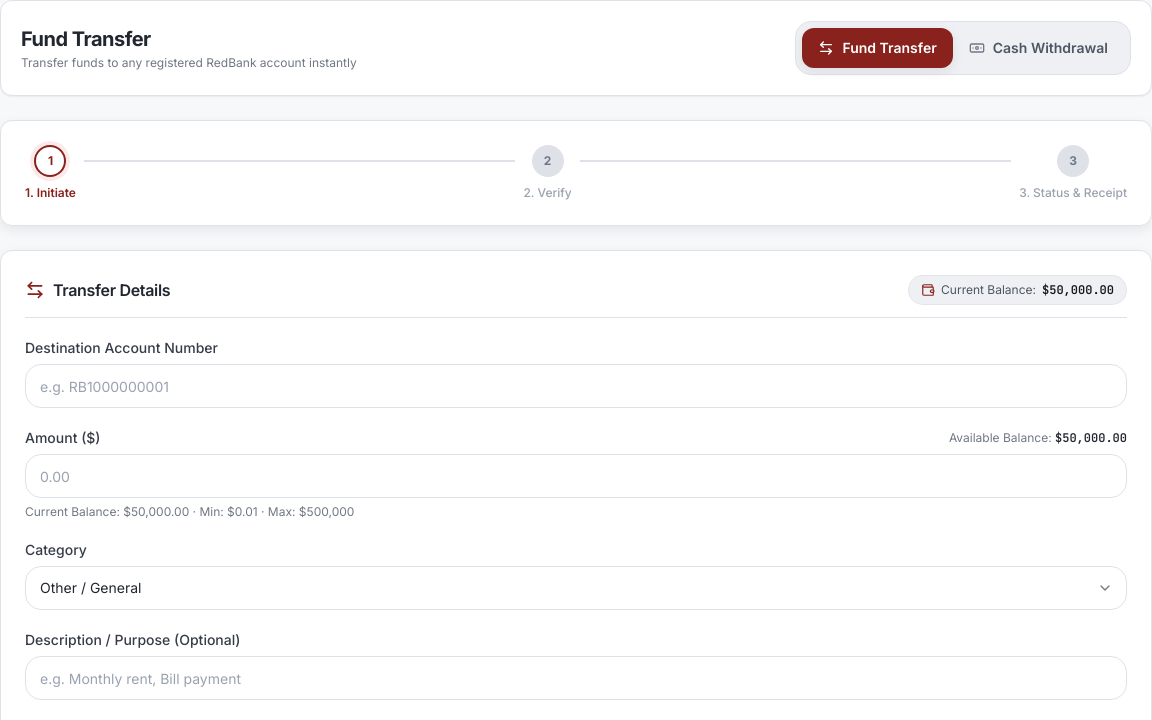
Test: TransactionForm › enforces minimum transaction amount limit
Step 1. Type "RB1000000001" into the field labelled "Destination Account Number" → (576, 386), box [25,364,1127,408]
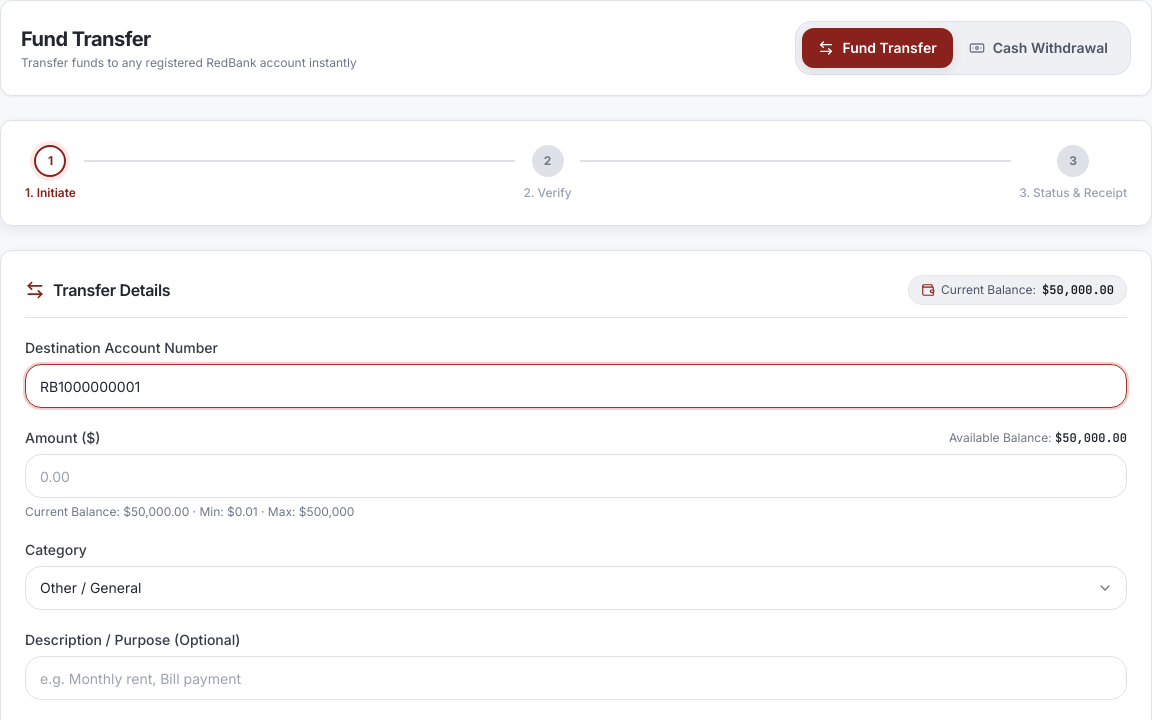
Step 2. Type "0" into the number field labelled "Amount ($) Available Balance: $50,000.00" → (576, 476), box [25,454,1127,498]
(page scrolled)
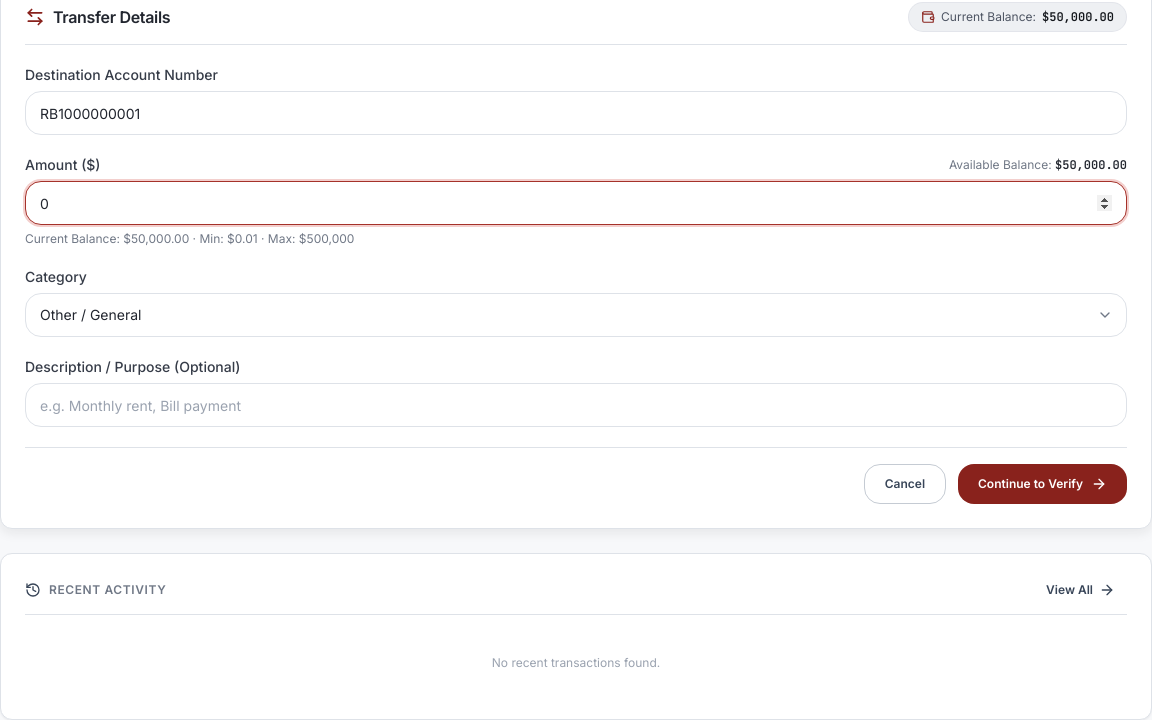
Step 3. Click the button "Continue to Verify" → (1042, 484), box [958,464,1127,504]
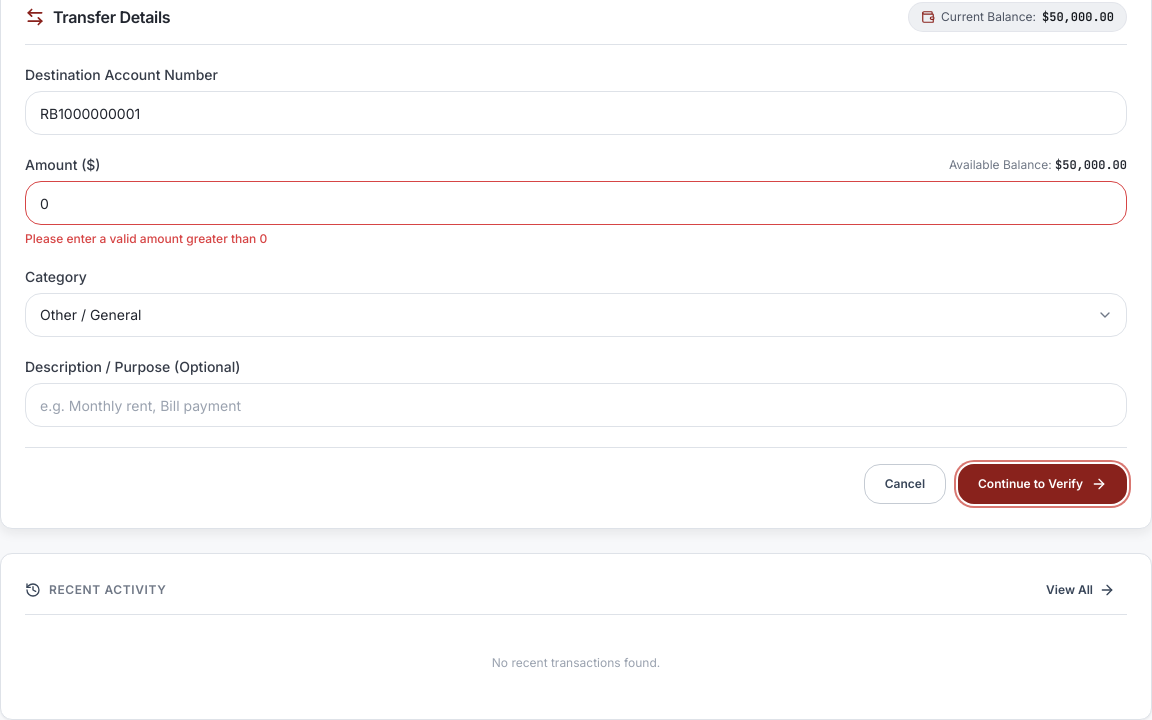
Result: the text "Please enter a valid amount greater than 0" is shown at [25,231,267,246]
